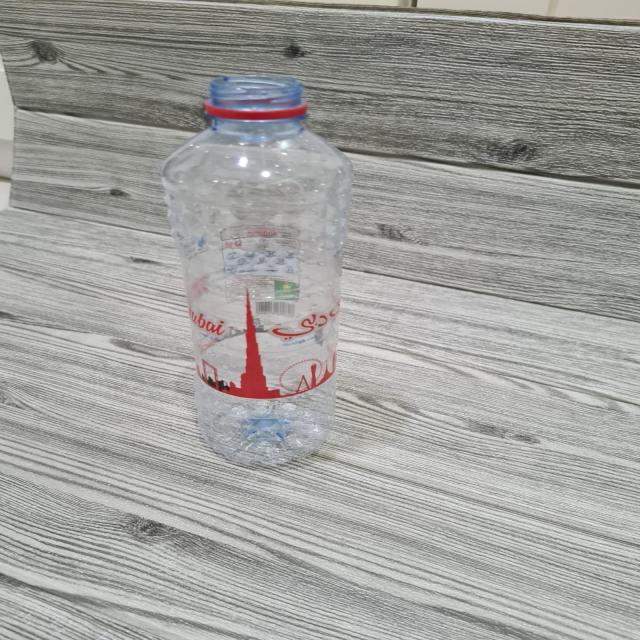chai: (162, 75, 351, 464)
